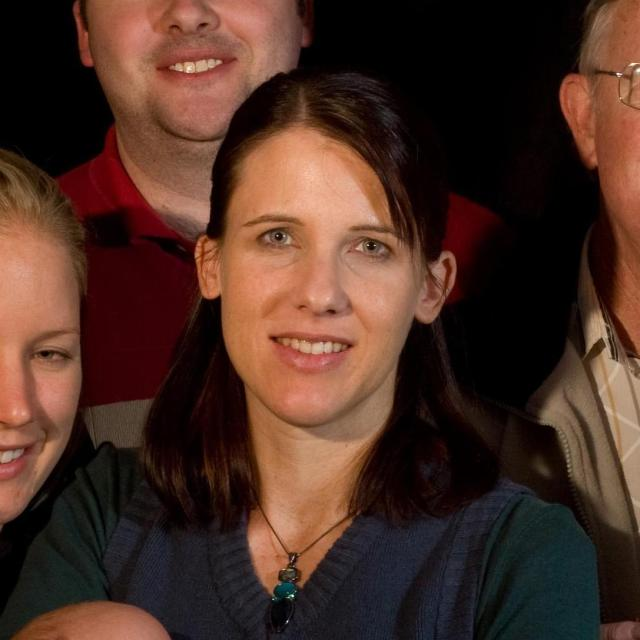no-glass: (250, 221, 389, 264)
